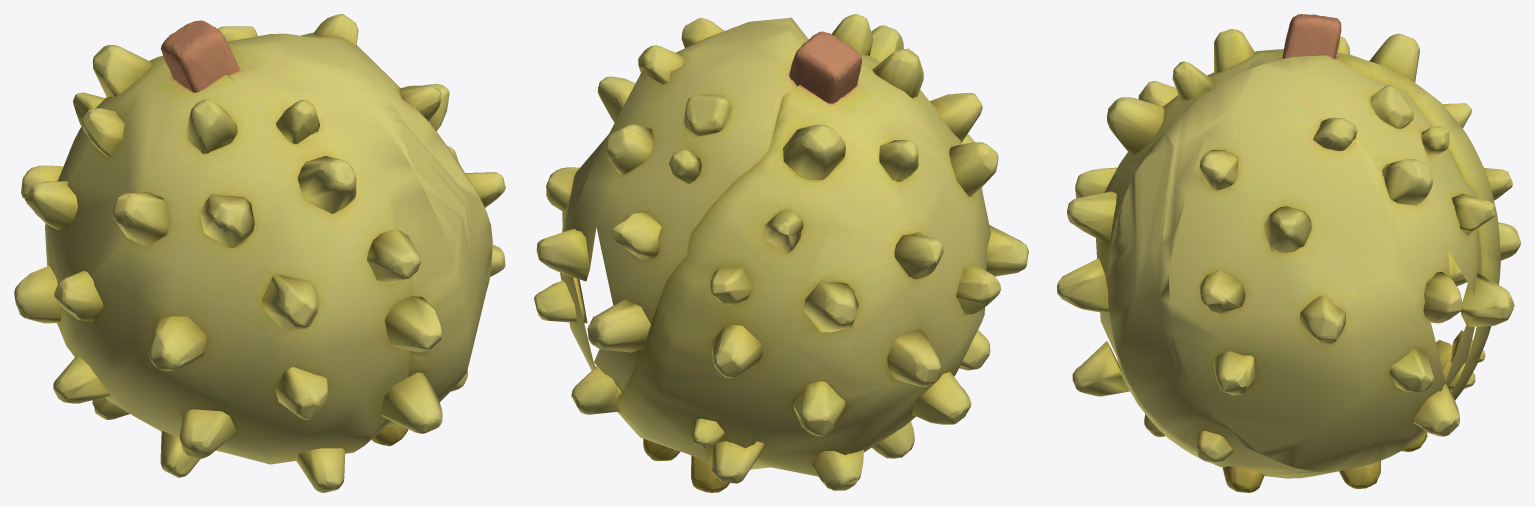
The model's file is durian.glb.
The picture shows the model from 3 angles, left to right: view 1: azimuth 30°, elevation 25°; view 2: azimuth 150°, elevation 25°; view 3: azimuth 270°, elevation 25°; orthographic projection. The views are drawn at different scales.
Parts seen in each view (by area): view 1: tripo_node_d2f6be83-bac1-4f49-b1db-b8d34fee50bf; view 2: tripo_node_d2f6be83-bac1-4f49-b1db-b8d34fee50bf; view 3: tripo_node_d2f6be83-bac1-4f49-b1db-b8d34fee50bf.
Boxes of the visible parts, bbox=[...] form: tripo_node_d2f6be83-bac1-4f49-b1db-b8d34fee50bf: bbox=[14, 14, 505, 492]; tripo_node_d2f6be83-bac1-4f49-b1db-b8d34fee50bf: bbox=[534, 14, 1028, 492]; tripo_node_d2f6be83-bac1-4f49-b1db-b8d34fee50bf: bbox=[1057, 14, 1520, 492].
Bounding box in the file's own units: 0.998 × 0.9746 × 0.998.
Materials: 1 (1 with a texture image).
